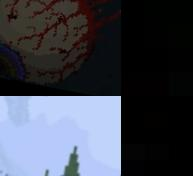eyeC: (0, 0, 121, 96)
sword: (121, 0, 193, 96), (121, 96, 193, 176)
